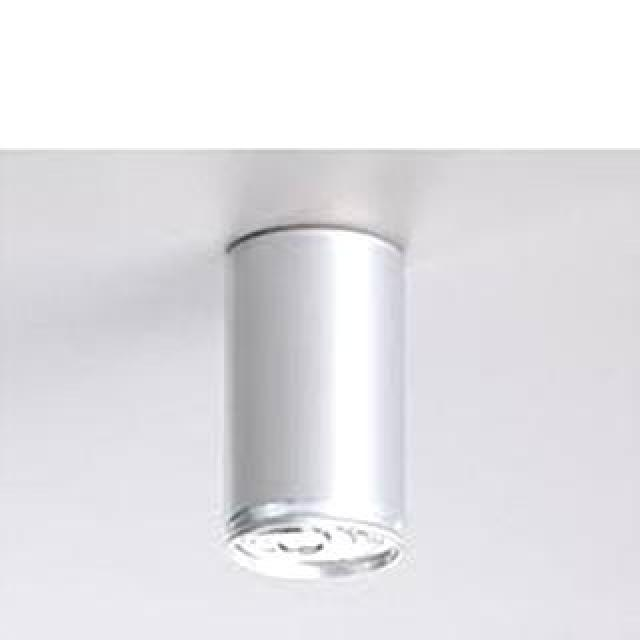Can: (192, 219, 418, 587)
